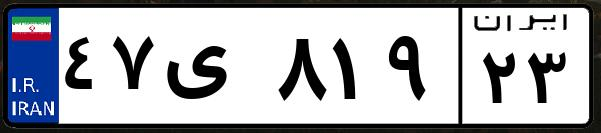1: (330, 28, 385, 110)
2: (475, 38, 525, 113)
3: (525, 38, 570, 115)
4: (57, 26, 110, 100)
7: (110, 28, 158, 98)
8: (270, 28, 330, 110)
9: (385, 28, 445, 110)
ی: (158, 20, 270, 120)
